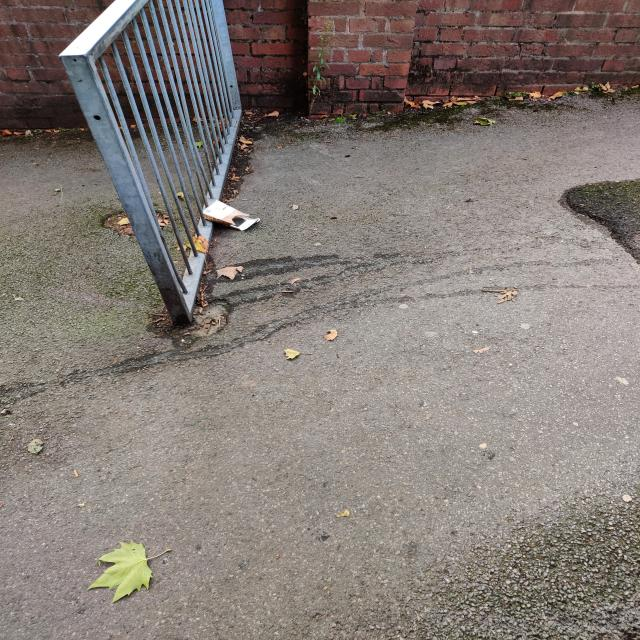litter: (183, 182, 278, 237)
